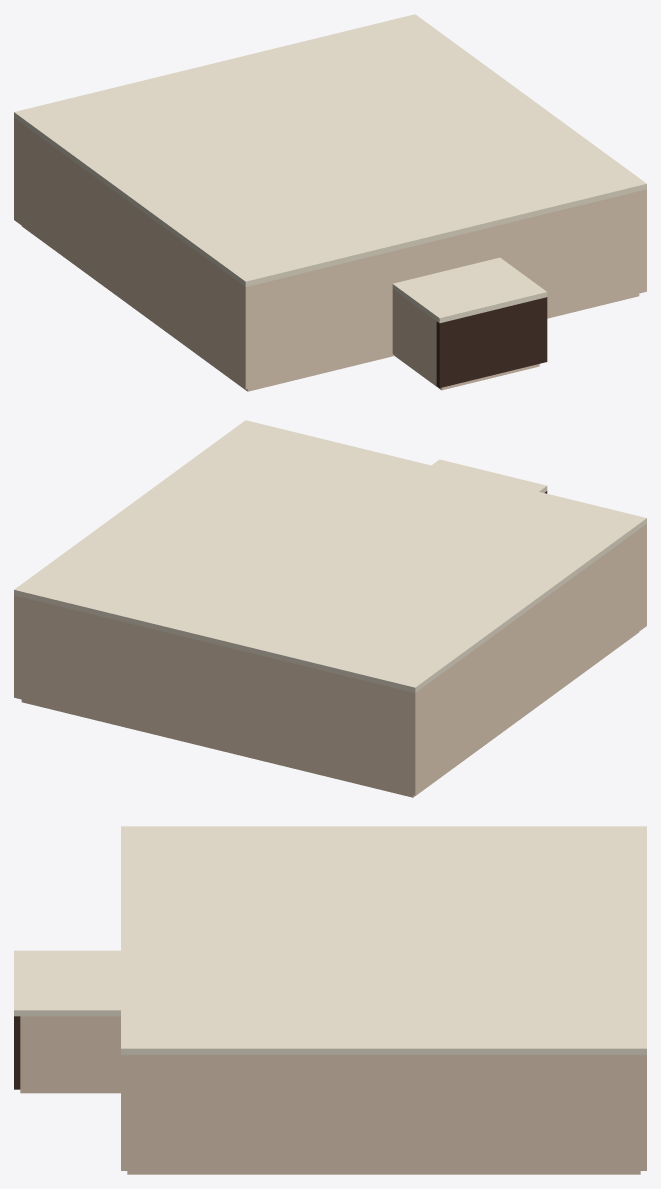
The model's file is hall_262.glb.
The picture shows the model from 3 angles, top to bottom: view 1: azimuth 30°, elevation 25°; view 2: azimuth 150°, elevation 25°; view 3: azimuth 270°, elevation 25°; orthographic projection. The views are drawn at different scales.
Parts seen in each view (by area): view 1: hall_262 ceiling, hall_262 wall, hall_262 wood, hall_262 floor; view 2: hall_262 ceiling, hall_262 wall, hall_262 floor; view 3: hall_262 ceiling, hall_262 wall, hall_262 floor, hall_262 wood.
Part boxes in pixels (x1,y1,x2,y2): hall_262 ceiling: [14, 14, 646, 323]; hall_262 wall: [14, 118, 646, 389]; hall_262 wood: [436, 297, 547, 388]; hall_262 floor: [22, 226, 639, 391]; hall_262 ceiling: [14, 420, 646, 692]; hall_262 wall: [14, 524, 646, 795]; hall_262 floor: [21, 632, 638, 797]; hall_262 ceiling: [14, 826, 646, 1054]; hall_262 wall: [20, 1016, 646, 1170]; hall_262 floor: [20, 1089, 640, 1174]; hall_262 wood: [14, 1016, 20, 1089].
Size of what is drawn, in the model's own units: 24.6 by 6.64 by 29.6.
